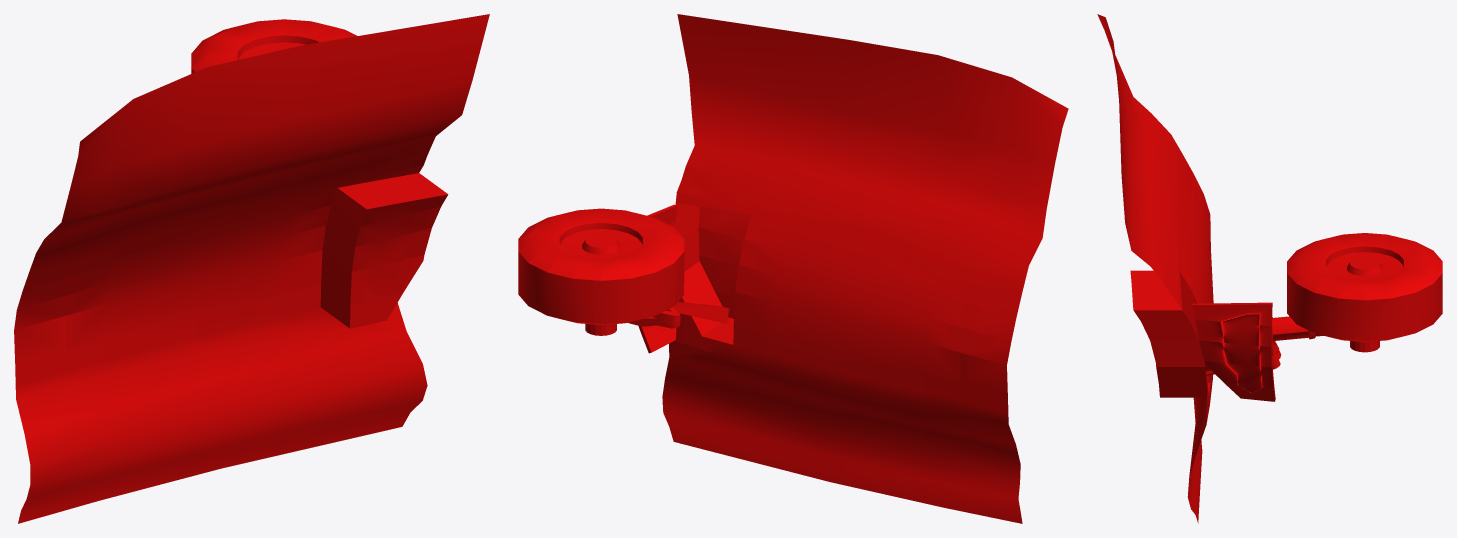
The model's file is rafale_highlight_07.fbx.
The picture shows the model from 3 angles, left to right: view 1: azimuth 30°, elevation 25°; view 2: azimuth 150°, elevation 25°; view 3: azimuth 270°, elevation 25°; orthographic projection. The views are drawn at different scales.
Visible parts, largest first — view 1: rafale_highlight_07; view 2: rafale_highlight_07; view 3: rafale_highlight_07.
Boxes of the visible parts, x1=… form: rafale_highlight_07: x1=14, y1=14, x2=489, y2=523; rafale_highlight_07: x1=518, y1=14, x2=1068, y2=523; rafale_highlight_07: x1=1097, y1=14, x2=1442, y2=523.
Bounding box in the file's own units: 86.31 × 83.44 × 68.39.
